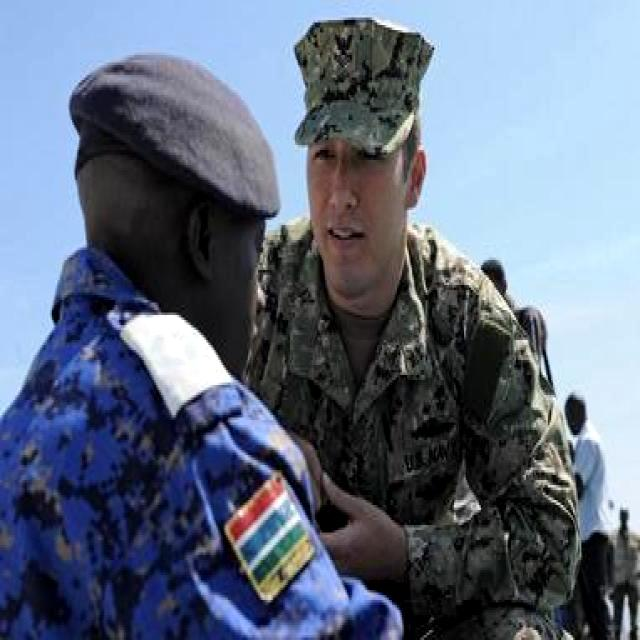no_hard_hat: (69, 52, 278, 218), (295, 18, 432, 155)
person: (0, 55, 400, 638), (248, 18, 578, 638)
